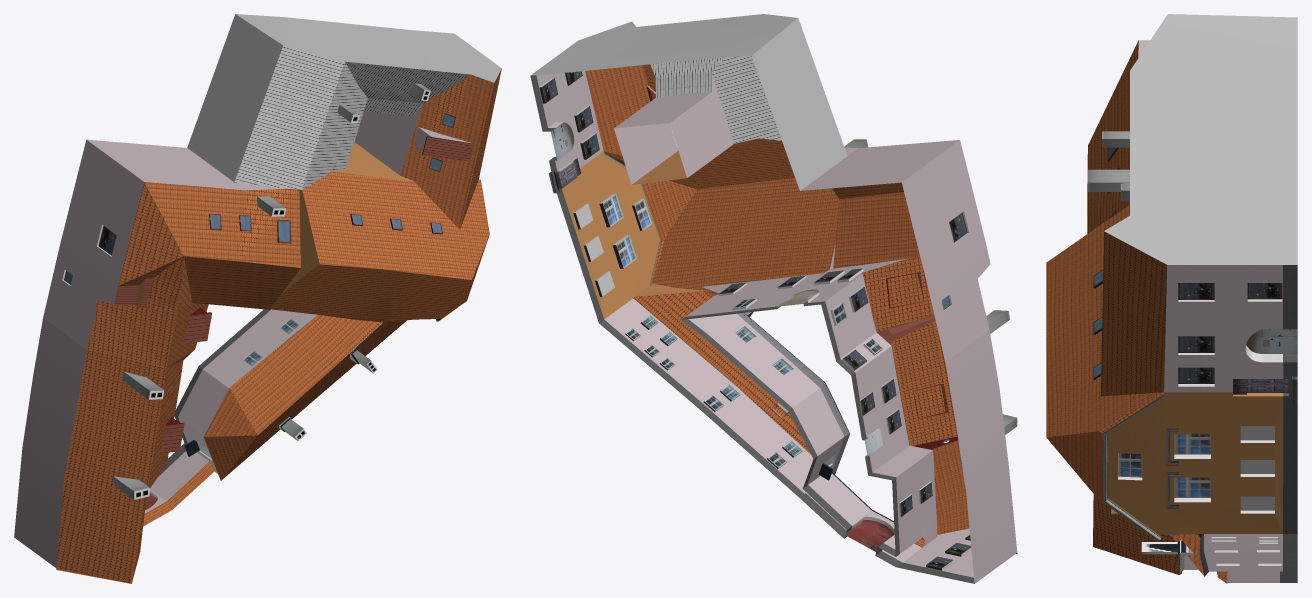
Rendered from Toom-Ryytli_5.obj.
The picture shows the model from 3 angles, left to right: view 1: azimuth 30°, elevation 25°; view 2: azimuth 150°, elevation 25°; view 3: azimuth 270°, elevation 25°; orthographic projection. The views are drawn at different scales.
Parts seen in each view (by area): view 1: Toom_Ryytli_5; view 2: Toom_Ryytli_5; view 3: Toom_Ryytli_5.
Boxes of the visible parts, x1,y1,x2,y2 form: Toom_Ryytli_5: (14, 14, 501, 583); Toom_Ryytli_5: (530, 14, 1017, 583); Toom_Ryytli_5: (1046, 14, 1297, 583).
Size of the model in its own units: 38.52 by 39.78 by 13.84.
